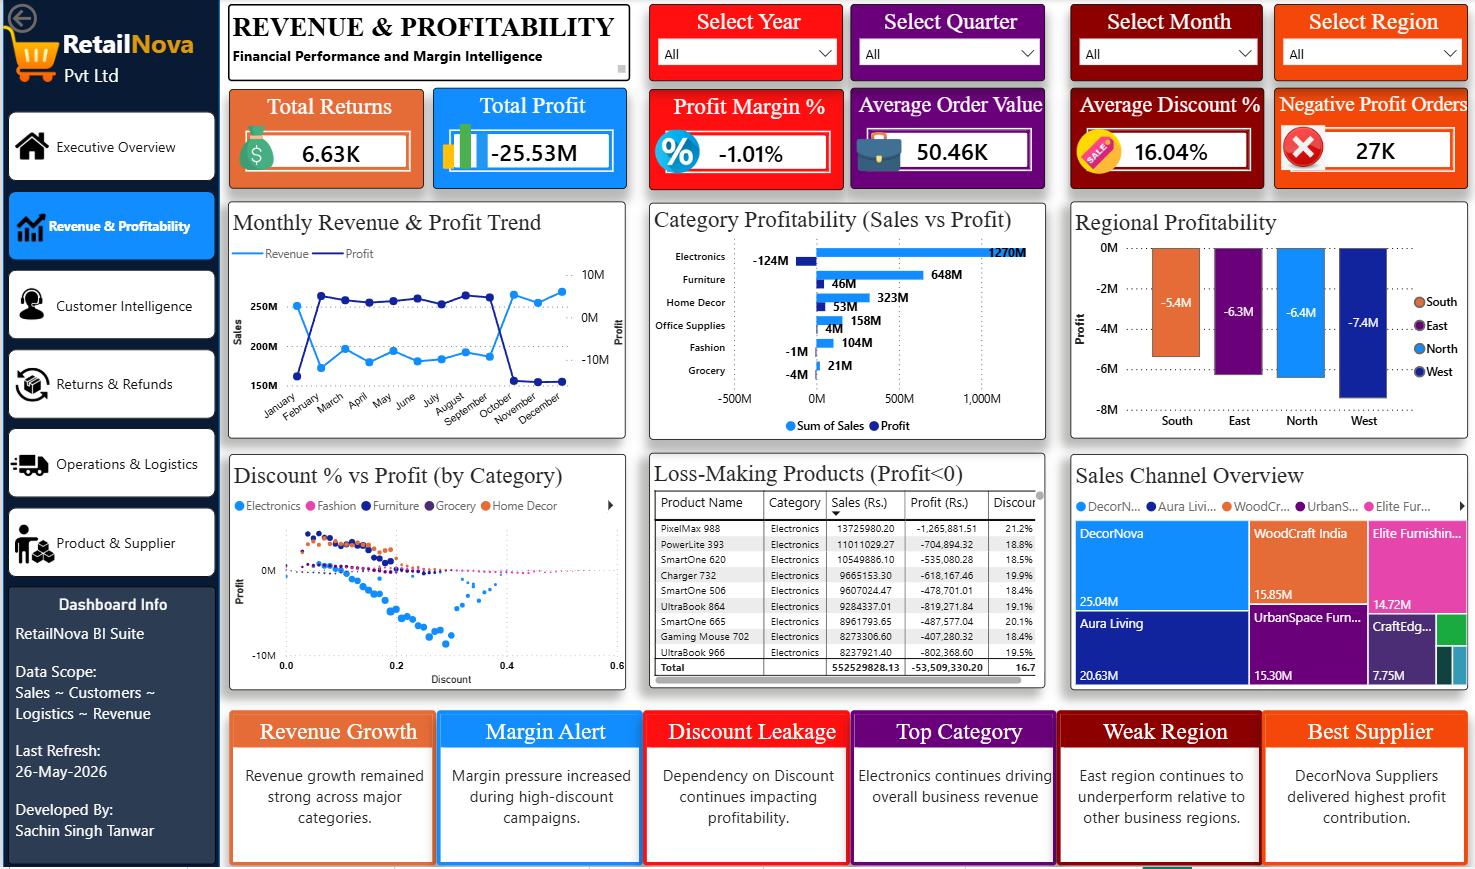

The dashboard page shown, as its layout file describes it:
{"tool":"powerbi","page":{"name":"     Revenue & Profitability","canvas":[1530,900],"ordinal":1},"visuals":[{"type":"textbox","title":"Revenue Growth","box":[234.9,736.4,214.8,160.5],"z":0},{"type":"cardVisual","title":"Total Profit","fields":{"Data":["master_analytics_dataset.Total Profit"]},"box":[445.2,92.1,200.6,104.4],"z":1000},{"type":"textbox","title":"Margin Alert","box":[449.7,736.4,213.4,160.5],"z":2000},{"type":"pageNavigator","box":[5.6,116.5,215.4,482.3],"z":2500,"group":"g1"},{"type":"cardVisual","title":"Profit Margin %","fields":{"Data":["master_analytics_dataset.Profit Margin %"]},"box":[669.1,93.4,202,104.4],"z":3000},{"type":"textbox","title":"Discount Leakage","box":[663.2,736.4,214.8,160.5],"z":4000},{"type":"image","box":[11.9,134.5,36.6,35.4],"z":4500,"group":"g1"},{"type":"textbox","title":"Top Category","box":[877.9,736.4,213.4,160.5],"z":5000},{"type":"cardVisual","title":"Average Order Value","fields":{"Data":["master_analytics_dataset.Average Order Value"]},"box":[877.9,92.1,202,104.4],"z":6000},{"type":"image","box":[0,22,58.1,70],"z":6250,"group":"g1"},{"type":"shape","box":[0,0,224.5,900.5],"z":6500,"group":"g2"},{"type":"textbox","title":"Weak Region","box":[1091.4,736.4,213.4,160.7],"z":7000},{"type":"cardVisual","title":"Average Discount %","fields":{"Data":["Avg(master_analytics_dataset.Discount)"]},"box":[1106,92.1,200.6,104.4],"z":8000},{"type":"textbox","title":"Retail","box":[58.1,22,166.4,60.9],"z":8500,"group":"g1"},{"type":"textbox","title":"Best Supplier","box":[1304.8,736.4,213.4,160.5],"z":9000},{"type":"cardVisual","title":"Negative Profit Orders","fields":{"Data":["master_analytics_dataset.Total Orders"]},"box":[1317.6,92.1,200.6,104.4],"z":10000},{"type":"textbox","box":[58.4,60.9,93.8,42.8],"z":10500,"group":"g1"},{"type":"cardVisual","title":"Total Returns","fields":{"Data":["master_analytics_dataset.Total Returns"]},"box":[234.9,93.4,202,103],"z":11000},{"type":"image","box":[233.2,130.8,59.6,46.6],"z":11000,"group":"g3"},{"type":"image","box":[449.5,129.5,59.6,46.6],"z":12000,"group":"g3"},{"type":"lineChart","title":"Monthly Revenue & Profit Trend","fields":{"Y":["Sum(master_analytics_dataset.Sales)"],"Category":["master_analytics_dataset.Order_Date.Variation.Date Hierarchy.Month"],"Y2":["Sum(master_analytics_dataset.Profit)"]},"box":[233.6,210.2,412.2,245.9],"z":12000},{"type":"image","box":[13.9,221.2,30,30],"z":12500,"group":"g1"},{"type":"image","box":[11.9,298.2,36,36.3],"z":13000,"group":"g1"},{"type":"scatterChart","title":"Discount % vs Profit (by Category)","fields":{"Y":["Sum(master_analytics_dataset.Profit)"],"X":["master_analytics_dataset.Discount"],"Series":["master_analytics_dataset.Category"],"Size":["Sum(master_analytics_dataset.Sales)"]},"box":[234.9,471.3,410.8,244.6],"z":13000},{"type":"image","box":[669.7,134.7,58.3,46.6],"z":14000,"group":"g3"},{"type":"columnChart","title":"Regional Profitability","fields":{"Category":["master_analytics_dataset.Region"],"Y":["Sum(master_analytics_dataset.Profit)"],"Series":["master_analytics_dataset.Region"]},"box":[1106,210.2,412.2,245.9],"z":14000},{"type":"image","box":[878.3,134.7,59.6,46.6],"z":15000,"group":"g3"},{"type":"image","box":[12.9,382.2,35.8,35.2],"z":15000,"group":"g1"},{"type":"tableEx","title":"Loss-Making Products (Profit<0)","fields":{"Values":["master_analytics_dataset.Product_Name","master_analytics_dataset.Category","Sum(master_analytics_dataset.Sales)","Sum(master_analytics_dataset.Profit)","Avg(master_analytics_dataset.Discount)"]},"box":[669.1,470.8,410.6,244.4],"z":15000},{"type":"treemap","title":"Sales Channel Overview","fields":{"Values":["Sum(master_analytics_dataset.Profit)"],"Group":["master_analytics_dataset.Supplier"]},"box":[1106,471.3,412.2,244.6],"z":16000},{"type":"image","box":[1106.3,134.7,59.6,46.6],"z":17000,"group":"g3"},{"type":"clusteredBarChart","title":"Category Profitability (Sales vs Profit)","fields":{"Category":["master_analytics_dataset.Category"],"Y":["Sum(master_analytics_dataset.Sales)","Sum(master_analytics_dataset.Profit)"]},"box":[670,210.7,411.5,245.6],"z":17000},{"type":"image","box":[8.3,464,38.9,38.9],"z":17000,"group":"g1"},{"type":"slicer","title":"Select Quarter","fields":{"Values":["master_analytics_dataset.Order_Date.Variation.Date Hierarchy.Quarter"]},"box":[877.9,5.5,202,79.7],"z":18000},{"type":"slicer","title":"Select Month","fields":{"Values":["master_analytics_dataset.Order_Date.Variation.Date Hierarchy.Month"]},"box":[1106,5.5,199.2,79.7],"z":19000},{"type":"image","box":[1317.4,130.8,59.6,46.6],"z":19000,"group":"g3"},{"type":"image","box":[11.9,544.4,42.3,41.5],"z":19000,"group":"g1"},{"type":"slicer","title":"Select Region","fields":{"Values":["master_analytics_dataset.Region"]},"box":[1317.6,5.5,200.6,79.7],"z":20000},{"type":"textbox","title":"Dashboard Info","box":[5.6,608.5,215.4,287.7],"z":20000,"group":"g1"},{"type":"textbox","title":"REVENUE & PROFITABILITY","box":[233.5,5.4,417.1,79.6],"z":21000},{"type":"group","id":"g1","title":"Group 1","box":[0,22,224.5,874.2],"z":21001,"group":"g2"},{"type":"group","id":"g2","title":"Group 2","box":[0,0,224.5,900.5],"z":22000},{"type":"slicer","title":"Select Year","fields":{"Values":["master_analytics_dataset.Order_Date.Variation.Date Hierarchy.Year"]},"box":[670.2,5.5,200.6,79.7],"z":23000},{"type":"group","id":"g3","title":"Group 3","box":[233.2,129.5,1143.8,51.8],"z":24000},{"type":"actionButton","box":[0,0,99.7,40.2],"z":25000}]}

Visuals, with their boxes in screenshot pixels (x1, y1, x2, y2), scaled from the page's 1530x900 canvas onto the 1475x869 screenshot:
"Revenue Growth" textbox: <region>226, 711, 434, 866</region>
"Total Profit" cardVisual: <region>429, 89, 623, 190</region>
"Margin Alert" textbox: <region>434, 711, 639, 866</region>
pageNavigator: <region>5, 112, 213, 578</region>
"Profit Margin %" cardVisual: <region>645, 90, 840, 191</region>
"Discount Leakage" textbox: <region>639, 711, 846, 866</region>
image: <region>11, 130, 47, 164</region>
"Top Category" textbox: <region>846, 711, 1052, 866</region>
"Average Order Value" cardVisual: <region>846, 89, 1041, 190</region>
image: <region>0, 21, 56, 89</region>
shape: <region>0, 0, 216, 868</region>
"Weak Region" textbox: <region>1052, 711, 1258, 866</region>
"Average Discount %" cardVisual: <region>1066, 89, 1260, 190</region>
"Retail" textbox: <region>56, 21, 216, 80</region>
"Best Supplier" textbox: <region>1258, 711, 1464, 866</region>
"Negative Profit Orders" cardVisual: <region>1270, 89, 1464, 190</region>
textbox: <region>56, 59, 147, 100</region>
"Total Returns" cardVisual: <region>226, 90, 421, 190</region>
image: <region>225, 126, 282, 171</region>
image: <region>433, 125, 491, 170</region>
"Monthly Revenue & Profit Trend" lineChart: <region>225, 203, 623, 440</region>
image: <region>13, 214, 42, 243</region>
image: <region>11, 288, 46, 323</region>
"Discount % vs Profit (by Category)" scatterChart: <region>226, 455, 622, 691</region>
image: <region>646, 130, 702, 175</region>
"Regional Profitability" columnChart: <region>1066, 203, 1464, 440</region>
image: <region>847, 130, 904, 175</region>
image: <region>12, 369, 47, 403</region>
"Loss-Making Products (Profit<0)" tableEx: <region>645, 455, 1041, 691</region>
"Sales Channel Overview" treemap: <region>1066, 455, 1464, 691</region>
image: <region>1067, 130, 1124, 175</region>
"Category Profitability (Sales vs Profit)" clusteredBarChart: <region>646, 203, 1043, 441</region>
image: <region>8, 448, 46, 486</region>
"Select Quarter" slicer: <region>846, 5, 1041, 82</region>
"Select Month" slicer: <region>1066, 5, 1258, 82</region>
image: <region>1270, 126, 1328, 171</region>
image: <region>11, 526, 52, 566</region>
"Select Region" slicer: <region>1270, 5, 1464, 82</region>
"Dashboard Info" textbox: <region>5, 588, 213, 865</region>
"REVENUE & PROFITABILITY" textbox: <region>225, 5, 627, 82</region>
"Group 1" group: <region>0, 21, 216, 865</region>
"Group 2" group: <region>0, 0, 216, 868</region>
"Select Year" slicer: <region>646, 5, 839, 82</region>
"Group 3" group: <region>225, 125, 1328, 175</region>
actionButton: <region>0, 0, 96, 39</region>
